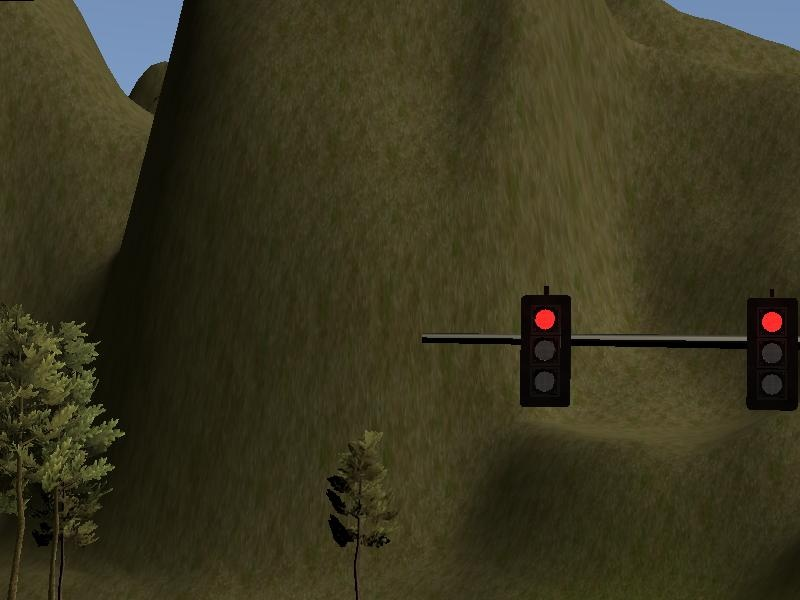RED: (521, 293, 569, 404), (747, 297, 779, 407)
